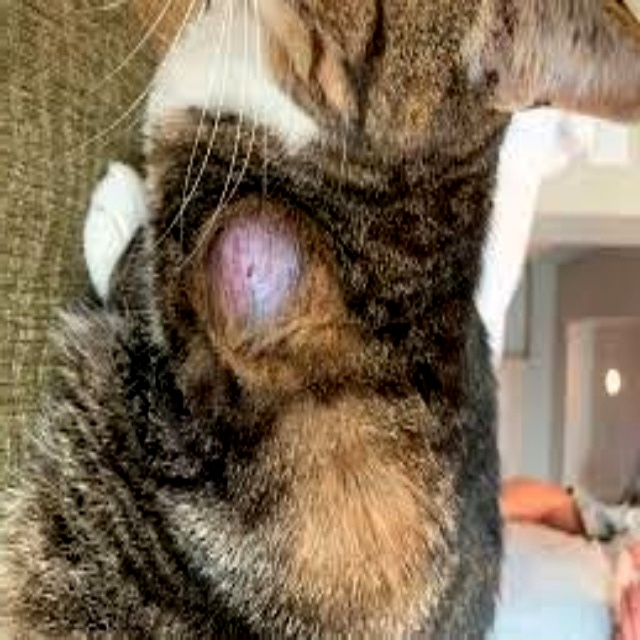lump_and_bump: (212, 211, 298, 330)
